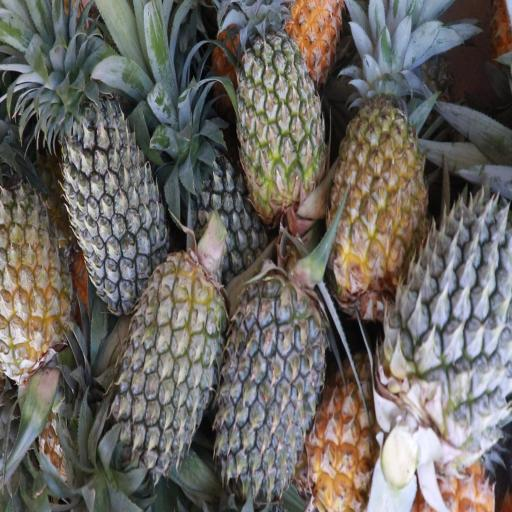------------------------------: (236, 30, 326, 220)
Pineapple - v8 v1: (336, 84, 428, 302), (313, 350, 406, 512), (0, 174, 70, 380)
